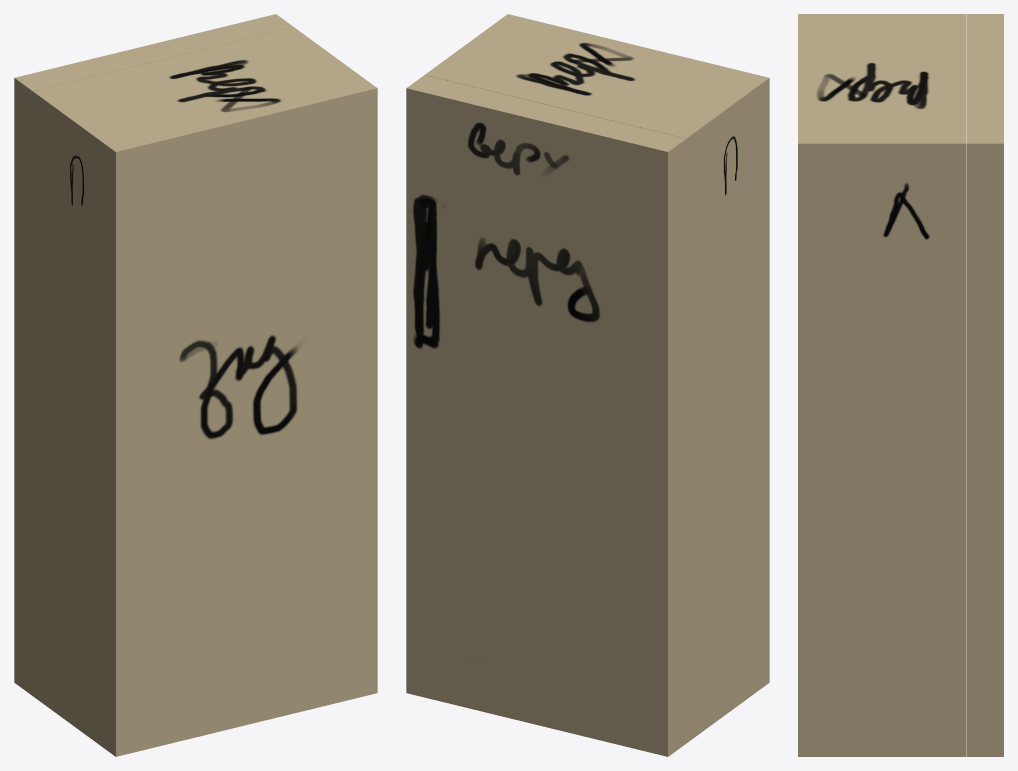
Rendered from fridge (8).fbx.
The picture shows the model from 3 angles, left to right: view 1: azimuth 30°, elevation 25°; view 2: azimuth 150°, elevation 25°; view 3: azimuth 270°, elevation 25°; orthographic projection.
Visible parts, largest first — view 1: fridge_main.001, fridge_door.001; view 2: fridge_door.001, fridge_main.001; view 3: fridge_main.001, fridge_door.001.
Part boxes in pixels (box(x1,y1,x2,y2)): fridge_main.001: box(32, 27, 377, 756); fridge_door.001: box(14, 14, 293, 695); fridge_door.001: box(406, 75, 686, 756); fridge_main.001: box(425, 14, 769, 743); fridge_main.001: box(798, 14, 966, 756); fridge_door.001: box(967, 14, 1003, 756).
Bounding box in the file's own units: 1.28 × 2.83 × 0.8606.
2 materials, 2 textured.
